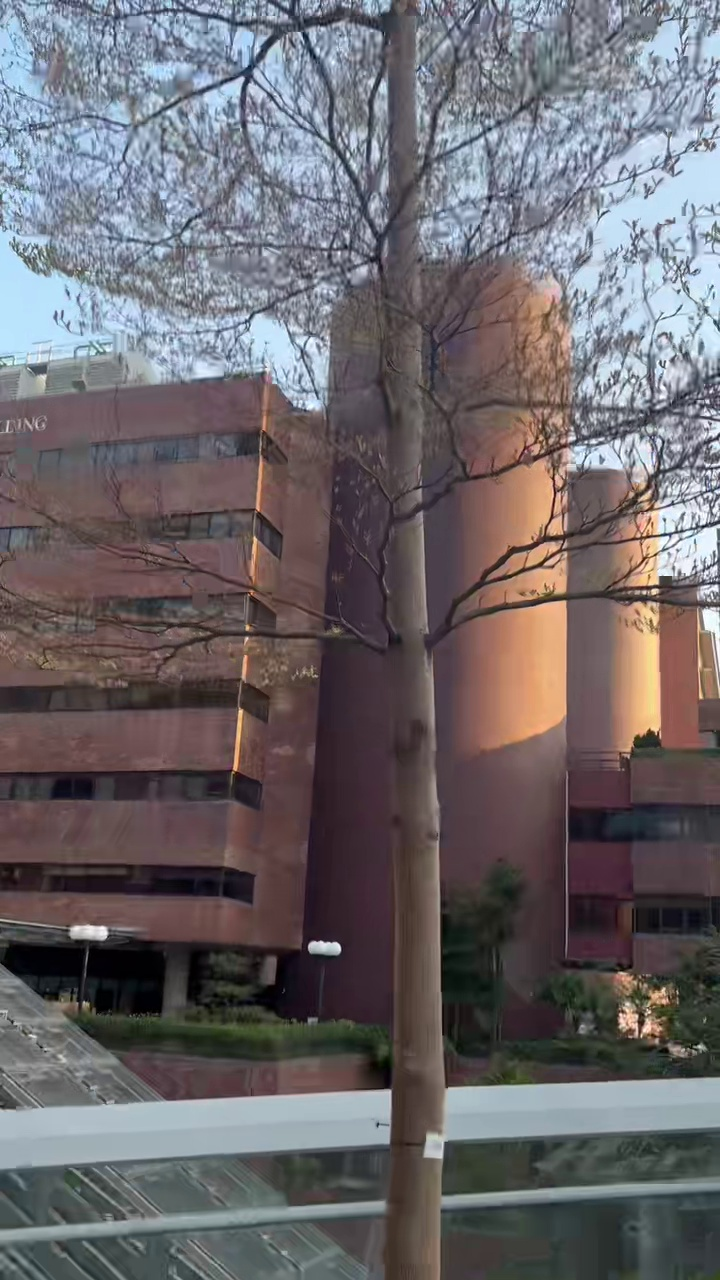Terminalia mantaly: (9, 0, 719, 1279)
